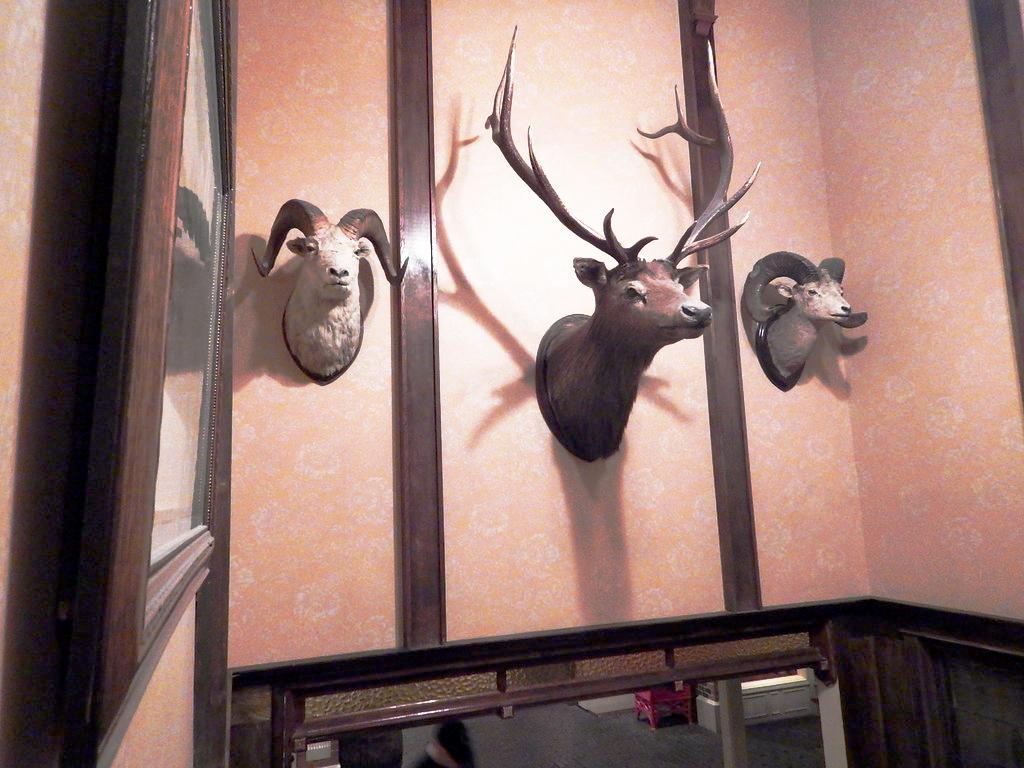Sheep: (251, 202, 408, 374), (744, 252, 856, 374)
